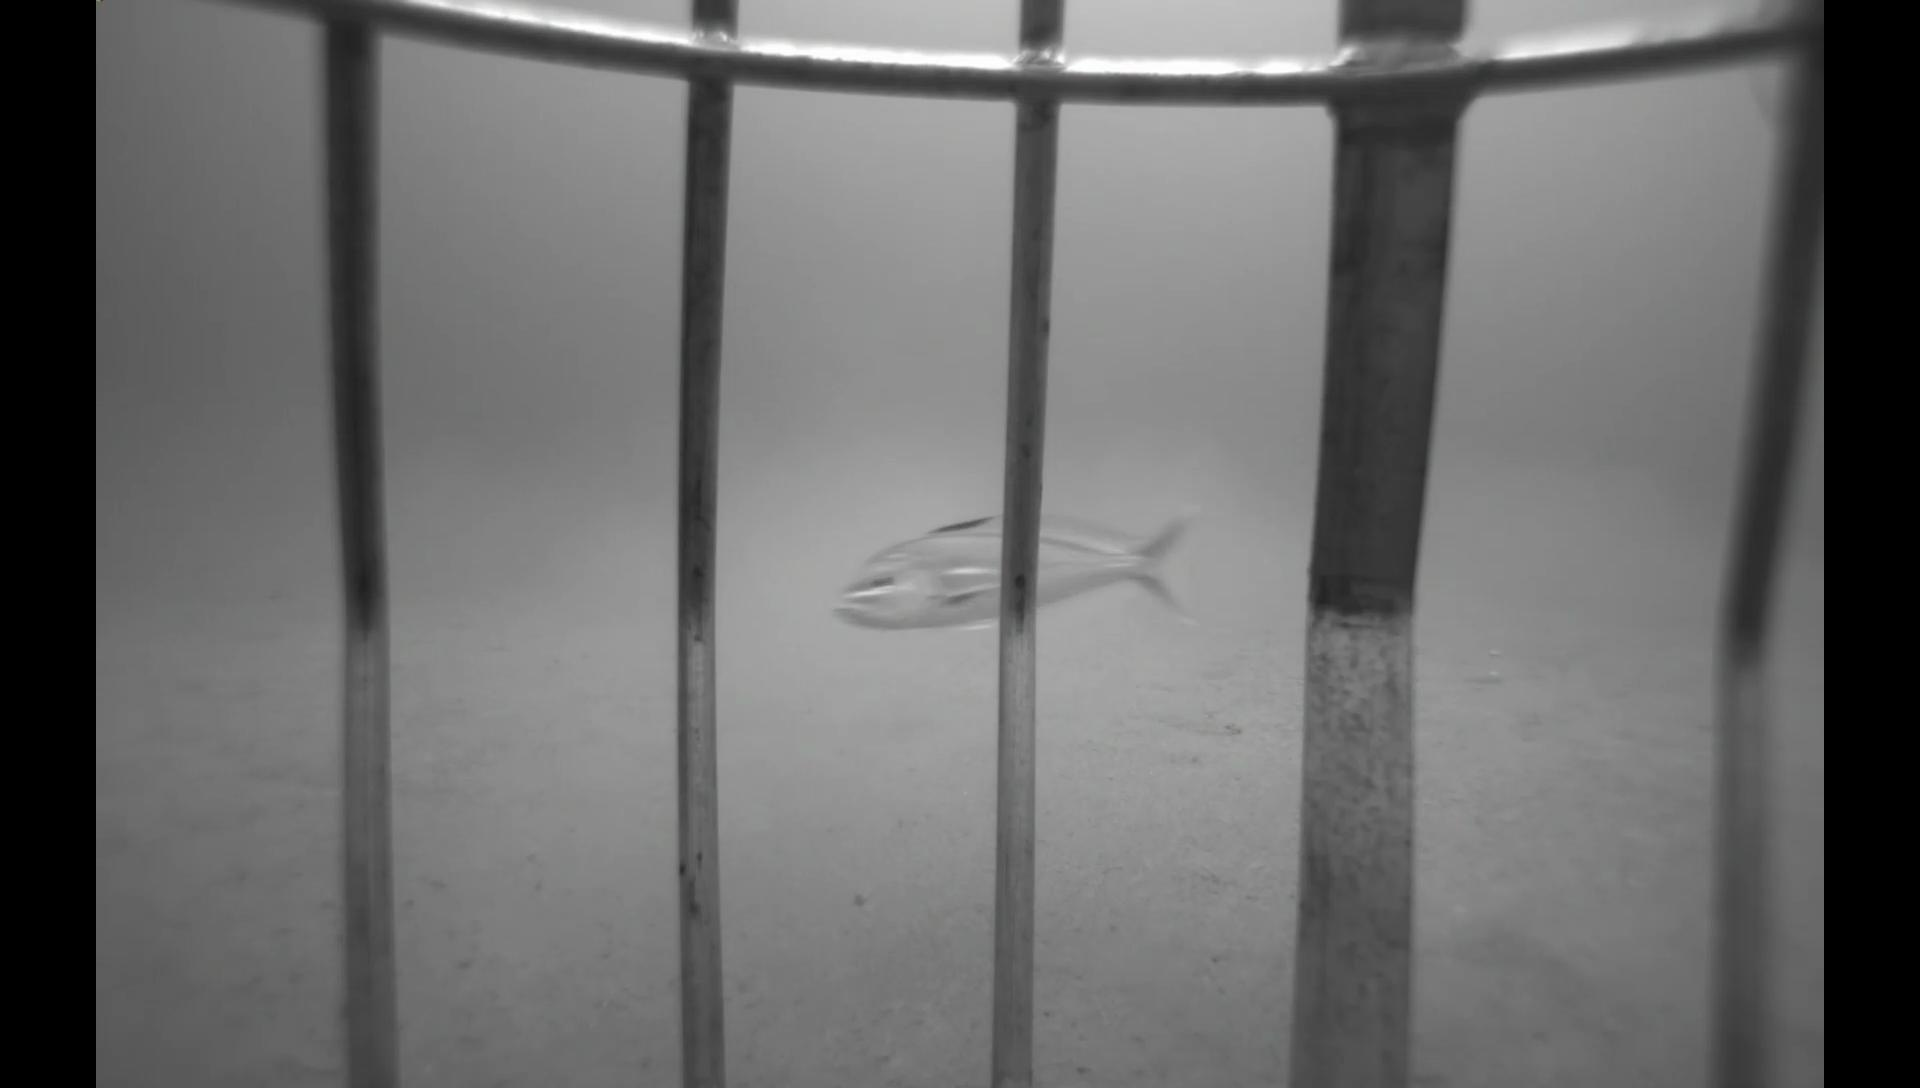CAULOLATILUSCYANOPS-170070101: (831, 499, 1207, 641)
SYACIUM-183011000: (1143, 699, 1249, 742)
